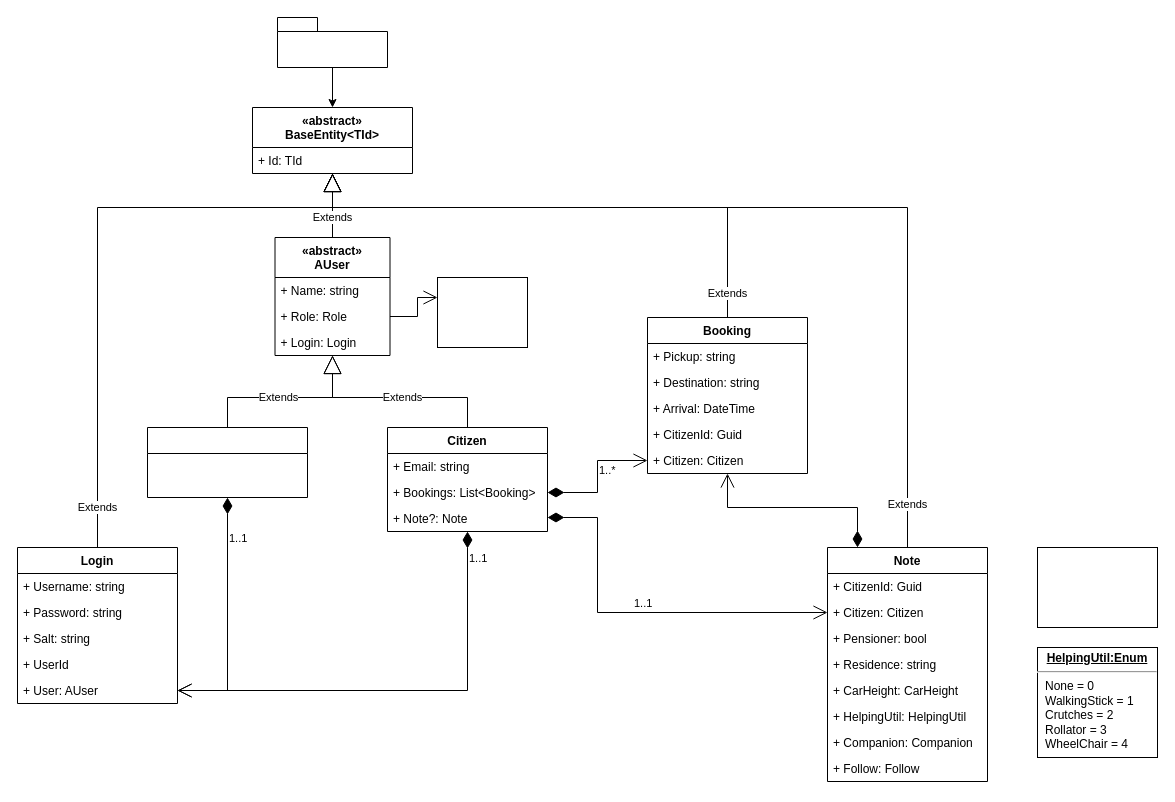
Image size: 1175x802. Some labels were removed from this diagram. The centre of each missing label's shape, as x and y in pixels:
Admin: point (227, 462)
CarHeight:Enum Any = 0 Low = 1 High = 2: point (1097, 587)
DanhoLibrary: point (332, 42)
Role:Enum Citizen = 0 Admin = 1: point (482, 312)
